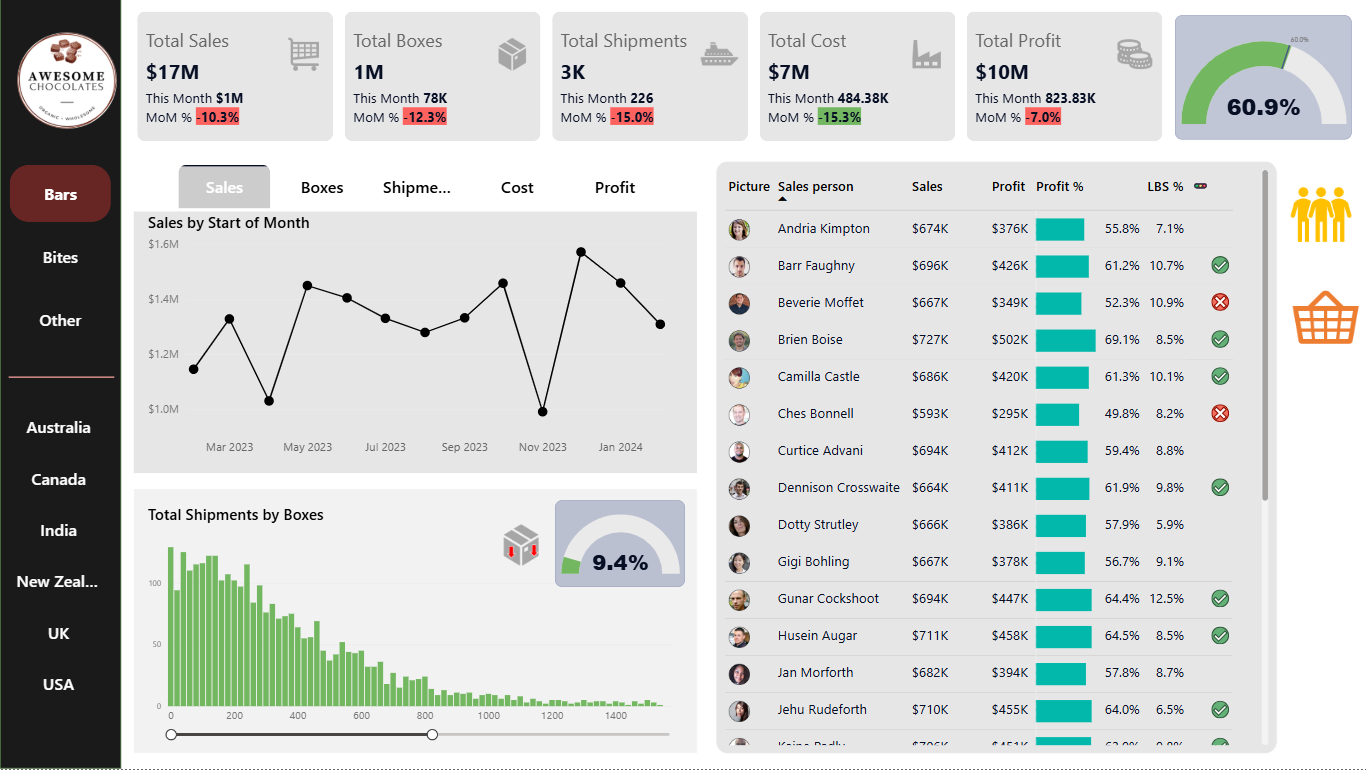

What the dashboard file says about the page in this screenshot:
{"tool":"powerbi","page":{"name":"Sales","canvas":[1920,1080],"ordinal":0},"visuals":[{"type":"shape","box":[0,0,170,1080],"z":0},{"type":"lineChart","fields":{"Y":["_measures.Total Sales"],"Category":["calendar.Start of Month"]},"box":[187.5,297.9,790,367.1],"z":0,"group":"g1"},{"type":"columnChart","title":"Total Shipments by Boxes","fields":{"Category":["shipments.Boxes (bins)"],"Y":["_measures.Total Shipments"]},"box":[187.5,687.5,790,370],"z":0,"group":"g2"},{"type":"cardVisual","title":"KPI Card","fields":{"Data":["_measures.Total Sales","_measures.Total Boxes","_measures.Total Shipments","_measures.Total Cost","_measures.Total Profit"]},"box":[187.5,17.5,1450,187.5],"z":1000},{"type":"advancedSlicerVisual","fields":{"Values":["Measure Selector.Measure Selector"]},"box":[244.8,227.5,690.6,71.9],"z":1000,"group":"g1"},{"type":"gauge","fields":{"Y":["_measures.LBS %"]},"box":[779.3,704.2,182.6,121.7],"z":1000,"group":"g2"},{"type":"gauge","title":"Profit % Gauge","fields":{"Y":["_measures.Profit %"]},"box":[1650,22,248,174],"z":2000},{"type":"image","box":[684.4,725.8,94.9,80],"z":2000,"group":"g2"},{"type":"image","title":"Logo","box":[20,22.5,150,182.5],"z":3000},{"type":"group","id":"g1","title":"Group 1","box":[187.5,227.5,790,437.5],"z":4000},{"type":"group","id":"g2","title":"Group 2","box":[187.5,687.5,790,370],"z":5000},{"type":"tableEx","title":"People Table","fields":{"Values":["people.Picture","people.Sales person","_measures.Total Sales","_measures.Total Profit","_measures.Profit %","_measures.LBS %","_measures.Profit Target Indicator"]},"box":[1006,228,786,830],"z":6000},{"type":"image","title":"People","box":[1802.5,242.5,105,120],"z":8000},{"type":"image","title":"Product","box":[1802.5,380,117.5,132.5],"z":9000},{"type":"advancedSlicerVisual","title":"Category slicer","fields":{"Values":["products.Category"]},"box":[8.8,228.8,152.5,267.5],"z":10000},{"type":"advancedSlicerVisual","title":"Location slicer","fields":{"Values":["locations.Geo"]},"box":[6,564,154,436],"z":11000},{"type":"shape","box":[12,502,148,58],"z":12000}]}

Visuals, with their boxes on the page's 1920x1080 design canvas (x1, y1, x2, y2). These are canvas units, not pixel positions in the 1366x770 screenshot, which may show the page scaled, cropped or inside an application window:
shape: l=0, t=0, r=170, b=1080
lineChart - _measures.Total Sales x calendar.Start of Month: l=188, t=298, r=978, b=665
"Total Shipments by Boxes" columnChart: l=188, t=688, r=978, b=1058
"KPI Card" cardVisual: l=188, t=18, r=1638, b=205
advancedSlicerVisual - Measure Selector.Measure Selector: l=245, t=228, r=935, b=299
gauge - _measures.LBS %: l=779, t=704, r=962, b=826
"Profit % Gauge" gauge: l=1650, t=22, r=1898, b=196
image: l=684, t=726, r=779, b=806
"Logo" image: l=20, t=22, r=170, b=205
"Group 1" group: l=188, t=228, r=978, b=665
"Group 2" group: l=188, t=688, r=978, b=1058
"People Table" tableEx: l=1006, t=228, r=1792, b=1058
"People" image: l=1802, t=242, r=1908, b=362
"Product" image: l=1802, t=380, r=1920, b=512
"Category slicer" advancedSlicerVisual: l=9, t=229, r=161, b=496
"Location slicer" advancedSlicerVisual: l=6, t=564, r=160, b=1000
shape: l=12, t=502, r=160, b=560
